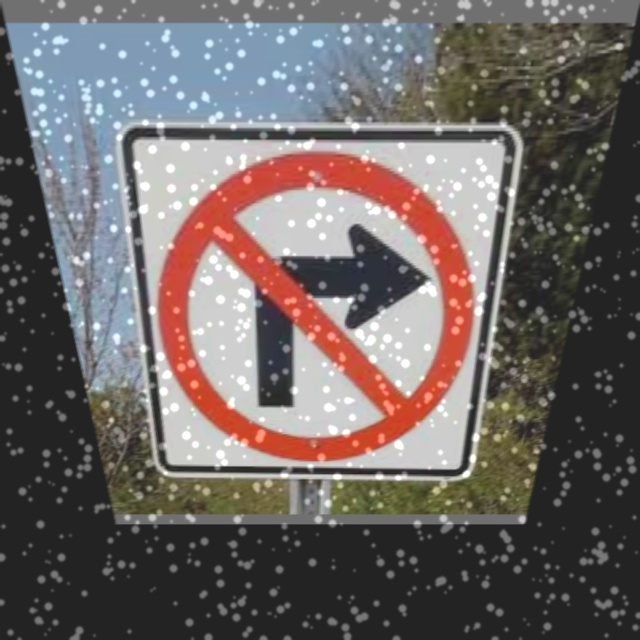Right_Turn_Prohibited: (128, 128, 505, 460)
